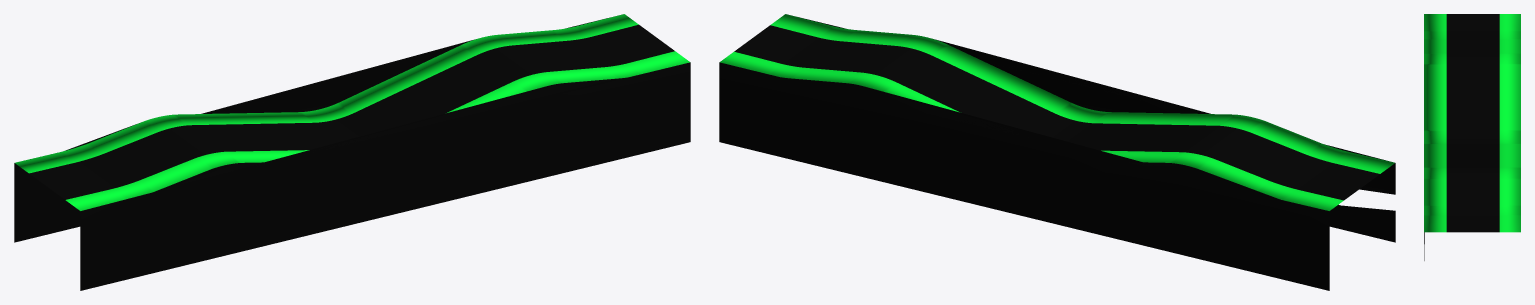
The model's file is Dip.fbx.
3 renders of one model, left to right at view 1: azimuth 30°, elevation 25°; view 2: azimuth 150°, elevation 25°; view 3: azimuth 270°, elevation 25°, orthographic. The views are drawn at different scales.
Visible parts, largest first — view 1: Dip_Prefab; view 2: Dip_Prefab; view 3: Dip_Prefab.
Part boxes in pixels (<box>): Dip_Prefab: <box>14,14,690,290</box>; Dip_Prefab: <box>719,14,1395,290</box>; Dip_Prefab: <box>1424,14,1520,260</box>.
Bounding box in the file's own units: 80 × 11.41 × 15.
